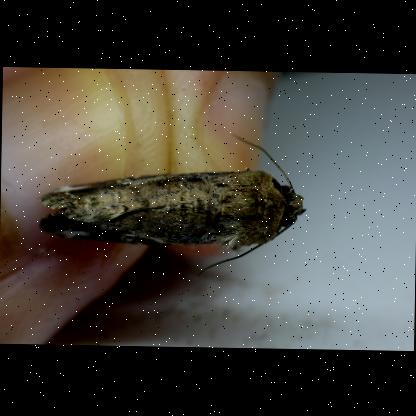Fall Armyworm Moth: (33, 146, 309, 280)
